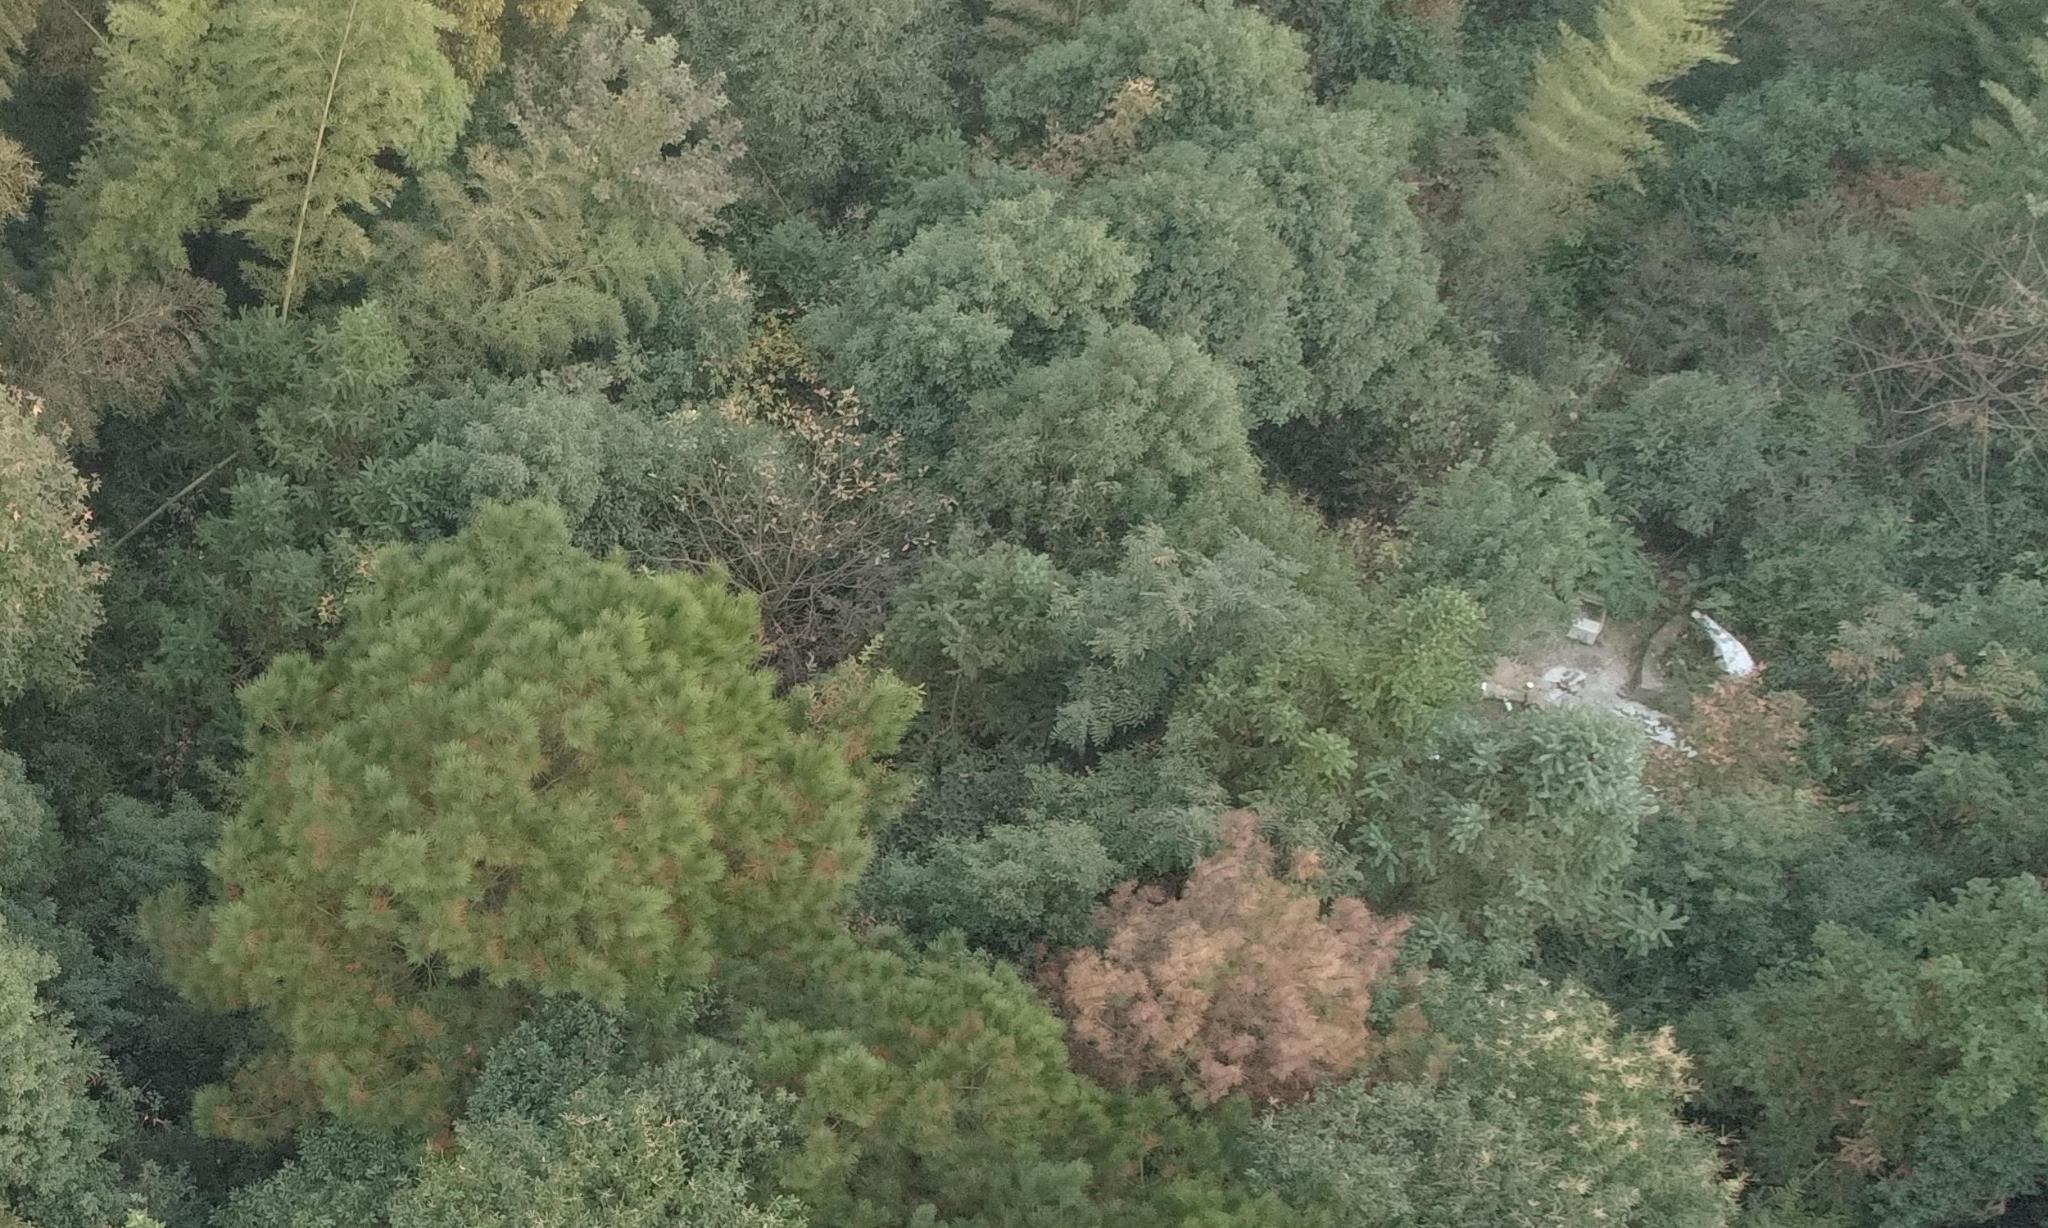heavy: (1041, 797, 1397, 1085)
light: (172, 620, 860, 1117)
